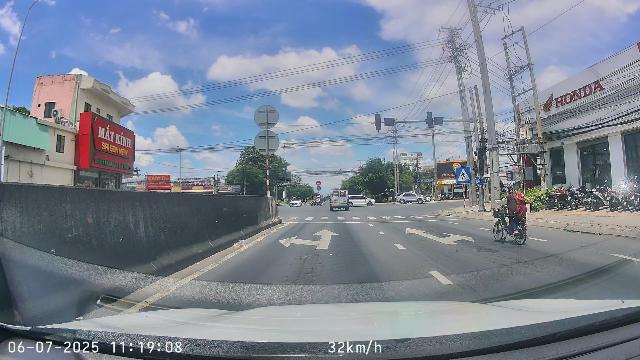423a-duong-nguoi-di-bo-sang-ngang-1: (456, 167, 471, 184)
